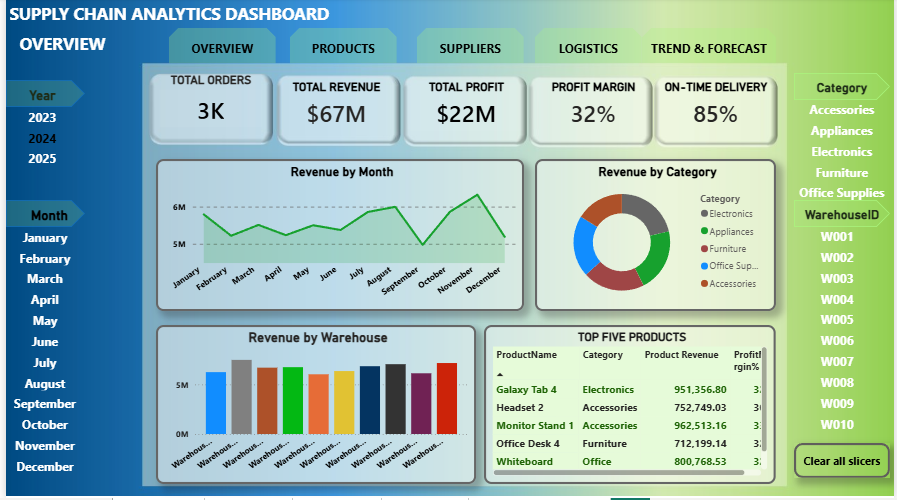

This screenshot's page, from the dashboard's own definition file:
{"tool":"powerbi","page":{"name":"Overview","canvas":[1280,720],"ordinal":0},"visuals":[{"type":"textbox","box":[0,0,708.5,54.7],"z":0},{"type":"actionButton","box":[234.1,42.7,153.8,51.3],"z":1000},{"type":"actionButton","box":[408.4,42.7,153.8,51.3],"z":2000},{"type":"actionButton","box":[591.3,42.7,153.8,51.3],"z":3000},{"type":"actionButton","box":[762.2,42.7,153.8,51.3],"z":4000},{"type":"actionButton","box":[916,42.7,193.1,51.3],"z":5000},{"type":"listSlicer","fields":{"Values":["DimDATE.Year"]},"box":[0,128.2,105.1,149.8],"z":6000},{"type":"shape","box":[0,118.1,113.8,38.9],"z":7000},{"type":"shape","box":[0,290.9,113.8,38.9],"z":8000},{"type":"listSlicer","fields":{"Values":["DimDATE.Month"]},"box":[0,301,125.3,398.9],"z":9000},{"type":"listSlicer","fields":{"Values":["DimProduct.Category"]},"box":[1127.5,118.1,152.6,193],"z":10000},{"type":"listSlicer","fields":{"Values":["DimWarehouse.WarehouseID"]},"box":[1127.5,301,152.6,339.8],"z":11000},{"type":"shape","box":[1134.7,290.9,138.2,38.9],"z":12000},{"type":"shape","box":[1134.7,108,138.2,38.9],"z":13000},{"type":"cardVisual","title":"TOTAL ORDERS","fields":{"Data":["FactSupplyChain.Total Orders"]},"box":[216,118.1,158.4,85],"z":14000},{"type":"actionButton","box":[1134.7,640.8,138.2,50.4],"z":15000},{"type":"cardVisual","title":"TOTAL REVENUE","fields":{"Data":["FactSupplyChain.Total Revenue"]},"box":[388.8,118.1,174.2,85],"z":16000},{"type":"cardVisual","title":"TOTAL PROFIT","fields":{"Data":["FactSupplyChain.Total Profit"]},"box":[581.8,118.1,162.7,85],"z":17000},{"type":"cardVisual","title":"PROFIT MARGIN","fields":{"Data":["FactSupplyChain.Profit Margin %"]},"box":[761.8,118.1,168.5,85],"z":18000},{"type":"cardVisual","title":"ON-TIME DELIVERY ","fields":{"Data":["FactSupplyChain.On-Time Delivery %"]},"box":[936,118.1,172.8,85],"z":19000},{"type":"lineChart","title":"Revenue by Month","fields":{"Y":["Sum(FactSupplyChain.Revenue)"],"Category":["DimDATE.Month"]},"box":[216,231.8,529.9,218.9],"z":20000},{"type":"donutChart","title":"Revenue by Category","fields":{"Y":["Sum(FactSupplyChain.Revenue)"],"Category":["DimProduct.Category"]},"box":[761.8,231.8,347,218.9],"z":21000},{"type":"columnChart","title":"Revenue by Warehouse","fields":{"Y":["Sum(FactSupplyChain.Revenue)"],"Category":["DimWarehouse.WarehouseName"]},"box":[216,470.9,460.8,229],"z":22000},{"type":"tableEx","title":"TOP FIVE PRODUCTS","fields":{"Values":["DimProduct.ProductName","DimProduct.Category","DimProduct.Product Revenue","FactSupplyChain.Profit Margin %"]},"box":[688.3,470.9,420.5,229],"z":23000},{"type":"textbox","box":[14.4,43.2,165.6,51.8],"z":24000}]}

Visuals, with their boxes in screenshot pixels (x1, y1, x2, y2), scaled from the page's 1280x720 canvas onto the 897x500 screenshot:
textbox: detection(0, 0, 497, 38)
actionButton: detection(164, 30, 272, 65)
actionButton: detection(286, 30, 394, 65)
actionButton: detection(414, 30, 522, 65)
actionButton: detection(534, 30, 642, 65)
actionButton: detection(642, 30, 777, 65)
listSlicer - DimDATE.Year: detection(0, 89, 74, 193)
shape: detection(0, 82, 80, 109)
shape: detection(0, 202, 80, 229)
listSlicer - DimDATE.Month: detection(0, 209, 88, 486)
listSlicer - DimProduct.Category: detection(790, 82, 896, 216)
listSlicer - DimWarehouse.WarehouseID: detection(790, 209, 896, 445)
shape: detection(795, 202, 892, 229)
shape: detection(795, 75, 892, 102)
"TOTAL ORDERS" cardVisual: detection(151, 82, 262, 141)
actionButton: detection(795, 445, 892, 480)
"TOTAL REVENUE" cardVisual: detection(272, 82, 395, 141)
"TOTAL PROFIT" cardVisual: detection(408, 82, 522, 141)
"PROFIT MARGIN" cardVisual: detection(534, 82, 652, 141)
"ON-TIME DELIVERY " cardVisual: detection(656, 82, 777, 141)
"Revenue by Month" lineChart: detection(151, 161, 523, 313)
"Revenue by Category" donutChart: detection(534, 161, 777, 313)
"Revenue by Warehouse" columnChart: detection(151, 327, 474, 486)
"TOP FIVE PRODUCTS" tableEx: detection(482, 327, 777, 486)
textbox: detection(10, 30, 126, 66)
